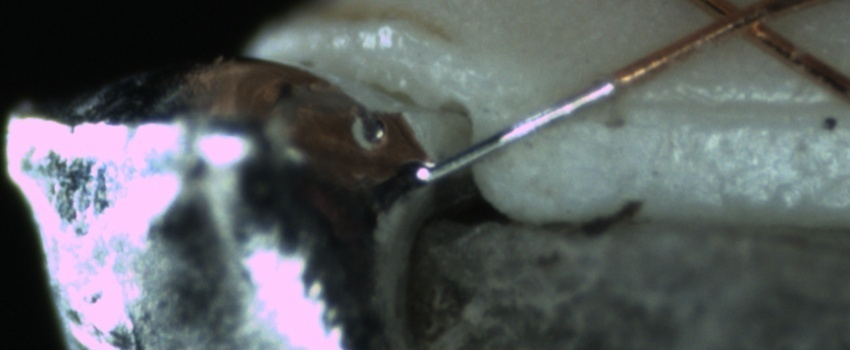CL: (694, 1, 783, 45)
DL: (604, 69, 849, 141)
TS: (416, 71, 614, 188)
